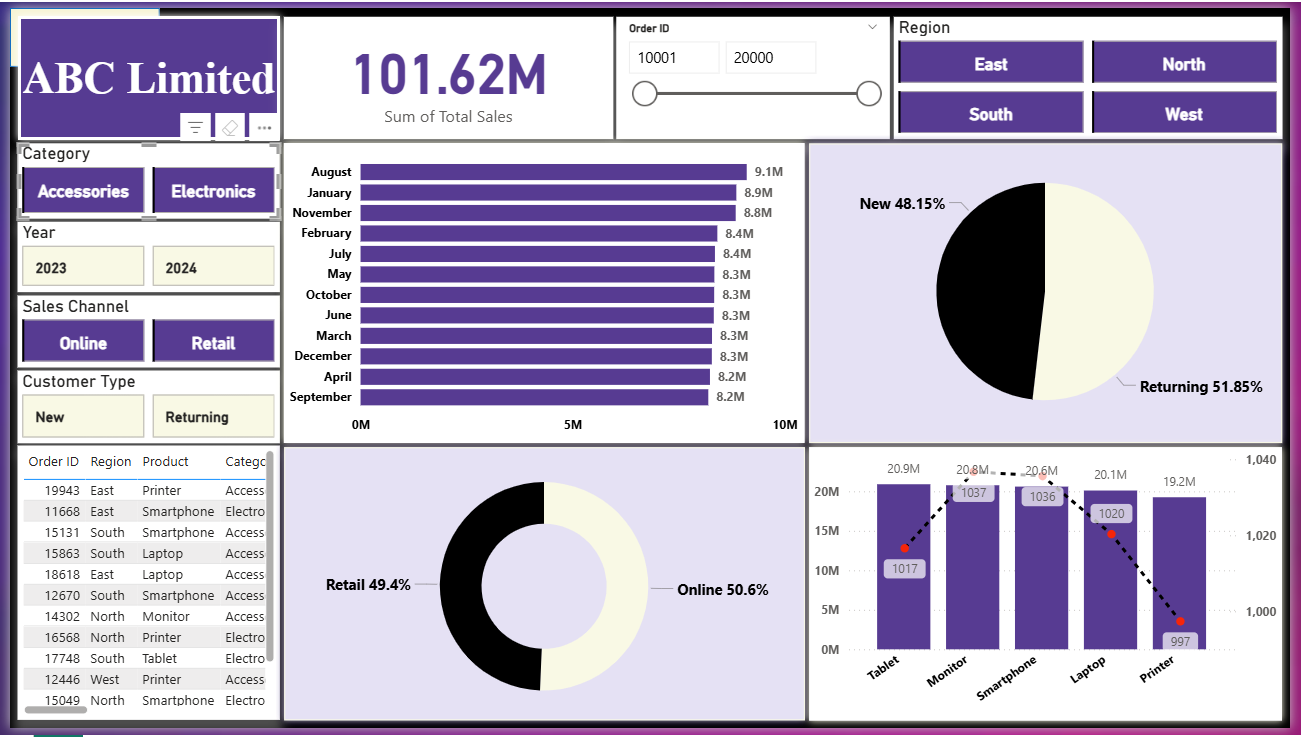

The dashboard page shown, as its layout file describes it:
{"tool":"powerbi","page":{"name":"Page 1","canvas":[1280,720],"ordinal":0},"visuals":[{"type":"shape","box":[0,0,149.7,58.9],"z":0},{"type":"shape","box":[0,0,278,140],"z":1000},{"type":"slicer","fields":{"Values":["Sheet1.Order ID"]},"box":[606.7,8.3,273.8,122.1],"z":2000},{"type":"card","fields":{"Values":["Sum(Sheet1.Total Sales)"]},"box":[274.1,8.3,329.6,122.2],"z":3000},{"type":"advancedSlicerVisual","fields":{"Values":["Sheet1.Region"]},"box":[883.3,8.3,388.8,122.1],"z":4000},{"type":"advancedSlicerVisual","fields":{"Values":["Sheet1.Category"]},"box":[8,135,262,76],"z":5000},{"type":"advancedSlicerVisual","fields":{"Values":["Sheet1.Order Date.Variation.Date Hierarchy.Year"]},"box":[8,214,262,70],"z":6000},{"type":"advancedSlicerVisual","fields":{"Values":["Sheet1.Sales Channel"]},"box":[8,287,262,72],"z":7000},{"type":"advancedSlicerVisual","fields":{"Values":["Sheet1.Customer Type"]},"box":[8,362,262,73],"z":8000},{"type":"tableEx","fields":{"Values":["Sheet1.Order ID","Sheet1.Region","Sheet1.Product","Sheet1.Category","Sheet1.Sales Channel","Sheet1.Customer Type","Sheet1.Quantity Sold","Sheet1.Month Name","Sheet1.Unit Price","Sheet1.Total Sales","Sheet1.Order Date"]},"box":[8,438,262,274],"z":9000},{"type":"shape","box":[266,128,536,315],"z":10000},{"type":"shape","box":[791.1,127.2,488.9,315.6],"z":11000},{"type":"shape","box":[265.7,431,536.7,289],"z":12000},{"type":"shape","box":[791.3,430.8,488.7,289.2],"z":13000},{"type":"barChart","fields":{"Category":["Sheet1.Month Name"],"Y":["Sum(Sheet1.Total Sales)"]},"box":[273.9,135,521.1,300],"z":14000},{"type":"lineStackedColumnComboChart","fields":{"Category":["Sheet1.Product"],"Y":["Sum(Sheet1.Total Sales)"],"Y2":["Avg(Sheet1.Unit Price)"]},"box":[799,438,473,274],"z":15000},{"type":"pieChart","fields":{"Category":["Sheet1.Customer Type"],"Y":["Sum(Sheet1.Total Sales)"]},"box":[799,134,473,300],"z":16000},{"type":"donutChart","fields":{"Category":["Sheet1.Sales Channel"],"Y":["Sum(Sheet1.Total Sales)"]},"box":[274,438,521,282],"z":17000}]}

Visuals, with their boxes in screenshot pixels (x1, y1, x2, y2), scaled from the page's 1280x720 canvas onto the 1301x737 screenshot:
shape: Rect(0, 0, 152, 60)
shape: Rect(0, 0, 283, 143)
slicer - Sheet1.Order ID: Rect(617, 8, 895, 133)
card - Sum(Sheet1.Total Sales): Rect(279, 8, 614, 134)
advancedSlicerVisual - Sheet1.Region: Rect(898, 8, 1293, 133)
advancedSlicerVisual - Sheet1.Category: Rect(8, 138, 274, 216)
advancedSlicerVisual - Sheet1.Order Date.Variation.Date Hierarchy.Year: Rect(8, 219, 274, 291)
advancedSlicerVisual - Sheet1.Sales Channel: Rect(8, 294, 274, 367)
advancedSlicerVisual - Sheet1.Customer Type: Rect(8, 371, 274, 445)
tableEx - Sheet1.Order ID x Sheet1.Region: Rect(8, 448, 274, 729)
shape: Rect(270, 131, 815, 453)
shape: Rect(804, 130, 1300, 453)
shape: Rect(270, 441, 816, 736)
shape: Rect(804, 441, 1300, 736)
barChart - Sheet1.Month Name x Sum(Sheet1.Total Sales): Rect(278, 138, 808, 445)
lineStackedColumnComboChart - Sheet1.Product x Sum(Sheet1.Total Sales): Rect(812, 448, 1293, 729)
pieChart - Sheet1.Customer Type x Sum(Sheet1.Total Sales): Rect(812, 137, 1293, 444)
donutChart - Sheet1.Sales Channel x Sum(Sheet1.Total Sales): Rect(278, 448, 808, 736)
